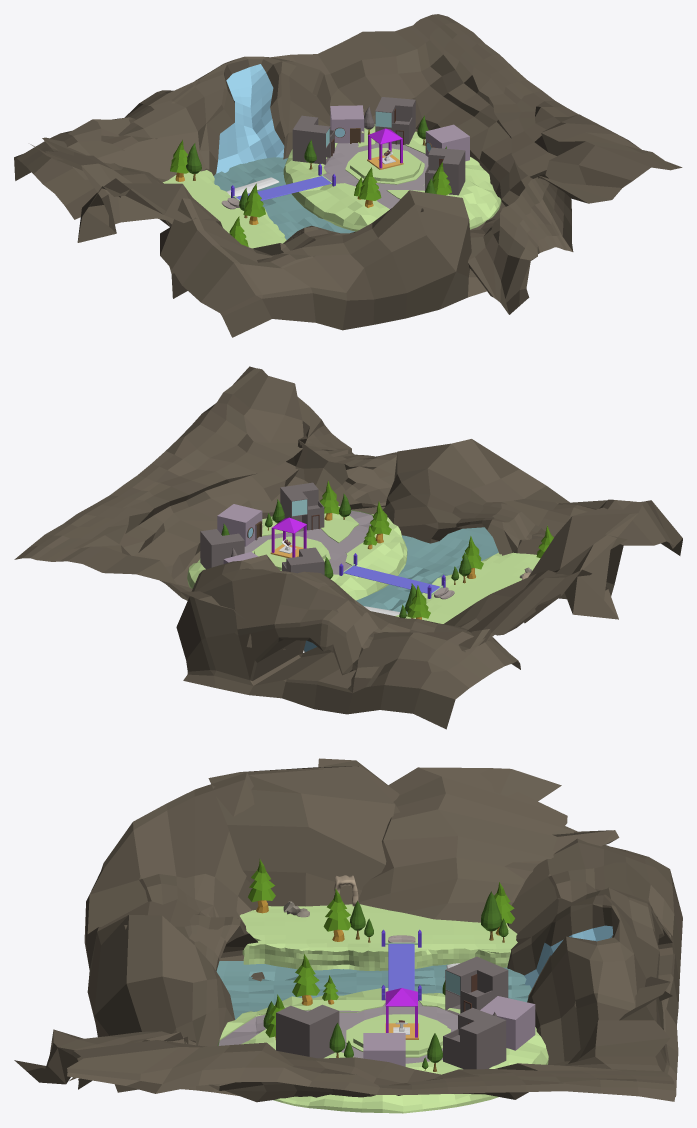
Rendered from CENA3 - CENAVILA-2002.fbx.
The picture shows the model from 3 angles, top to bottom: view 1: azimuth 30°, elevation 25°; view 2: azimuth 150°, elevation 25°; view 3: azimuth 270°, elevation 25°; orthographic projection. The views are drawn at different scales.
Parts seen in each view (by area): view 1: Plane.026, Plane.024, Plane.025, Plane.002, Plane.027, Plane.023, Plane.028, Plane.001, Plane.015, Plane.011, Plane.012, Plane.013 (+3 smaller); view 2: Plane.025, Plane.026, Plane.024, Plane.027, Plane.002, Plane.023, Plane.028, Plane.011, Plane.013, Plane.015, Plane.006, Plane.001; view 3: Plane.027, Plane.024, Plane.026, Plane.025, Plane.028, Plane.002, Plane.023, Plane.015, Plane.011, Plane.001, Plane.012, Plane.006 (+6 smaller).
Boxes of the visible parts, left/top/right/bottom form: Plane.026: left=271, top=14, right=682, bottom=314; Plane.024: left=160, top=190, right=486, bottom=337; Plane.025: left=14, top=56, right=330, bottom=219; Plane.002: left=283, top=124, right=501, bottom=231; Plane.027: left=30, top=137, right=222, bottom=242; Plane.023: left=213, top=157, right=354, bottom=239; Plane.028: left=163, top=170, right=286, bottom=248; Plane.001: left=292, top=115, right=334, bottom=164; Plane.015: left=375, top=97, right=415, bottom=144; Plane.011: left=425, top=147, right=465, bottom=195; Plane.012: left=330, top=105, right=364, bottom=143; Plane.013: left=425, top=124, right=469, bottom=161; Plane.025: left=176, top=554, right=520, bottom=729; Plane.026: left=14, top=366, right=397, bottom=649; Plane.024: left=383, top=439, right=682, bottom=599; Plane.027: left=443, top=501, right=642, bottom=652; Plane.002: left=187, top=506, right=407, bottom=600; Plane.023: left=356, top=527, right=498, bottom=613; Plane.028: left=395, top=552, right=540, bottom=623; Plane.011: left=280, top=482, right=324, bottom=531; Plane.013: left=217, top=504, right=262, bottom=546; Plane.015: left=200, top=529, right=244, bottom=569; Plane.006: left=344, top=565, right=440, bottom=593; Plane.001: left=282, top=547, right=324, bottom=574; Plane.027: left=208, top=758, right=619, bottom=922; Plane.024: left=84, top=772, right=264, bottom=1095; Plane.026: left=14, top=976, right=676, bottom=1102; Plane.025: left=507, top=838, right=682, bottom=1096; Plane.028: left=240, top=904, right=517, bottom=970; Plane.002: left=217, top=988, right=548, bottom=1113; Plane.023: left=216, top=961, right=531, bottom=1019; Plane.015: left=443, top=1007, right=506, bottom=1069; Plane.011: left=276, top=1004, right=339, bottom=1058; Plane.001: left=445, top=956, right=508, bottom=1015; Plane.012: left=480, top=996, right=535, bottom=1050; Plane.006: left=388, top=943, right=414, bottom=990.
Bounding box in the file's own units: 18880 × 5153 × 17354.
